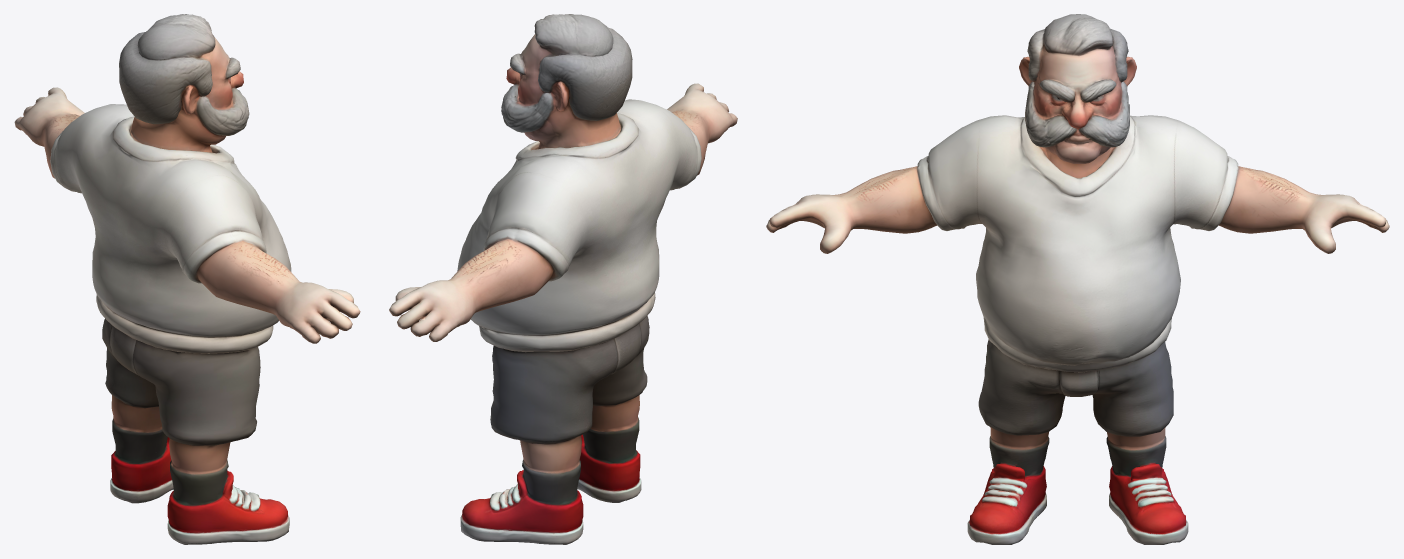
3 renders of one model, left to right at view 1: azimuth 30°, elevation 25°; view 2: azimuth 150°, elevation 25°; view 3: azimuth 270°, elevation 25°, orthographic.
Parts seen in each view (by area): view 1: tripo_node_4d2d69bd; view 2: tripo_node_4d2d69bd; view 3: tripo_node_4d2d69bd.
Boxes of the visible parts, x1,y1,x2,y2 form: tripo_node_4d2d69bd: (14, 14, 360, 544); tripo_node_4d2d69bd: (389, 14, 737, 544); tripo_node_4d2d69bd: (766, 14, 1389, 544).
Size of the model in its own units: 32.68 by 88.06 by 100.
Materials: 1 (1 with a texture image).
